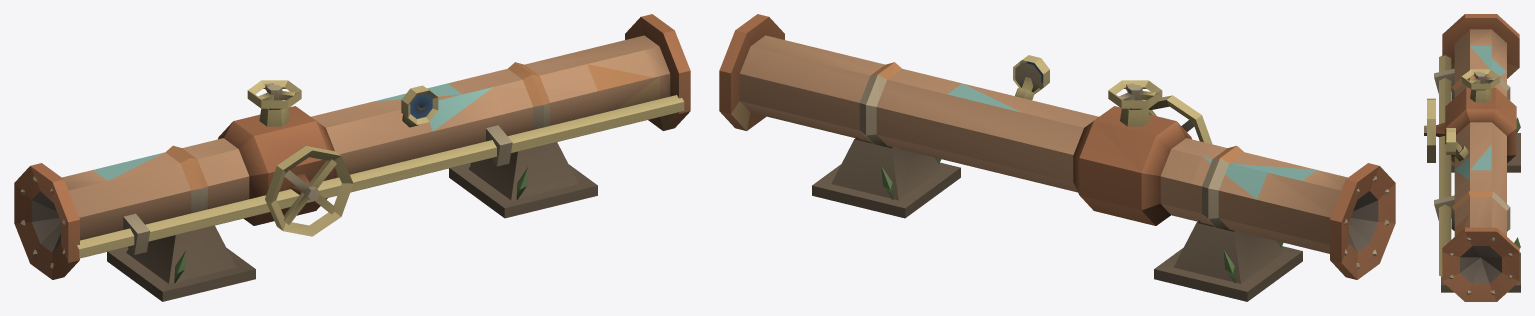
Rendered from pipe.glb.
3 views of the same model, side by side, from view 1: azimuth 30°, elevation 25°; view 2: azimuth 150°, elevation 25°; view 3: azimuth 270°, elevation 25° (orthographic). The views are drawn at different scales.
Parts seen in each view (by area): view 1: pipe; view 2: pipe; view 3: pipe.
Part boxes in pixels (x1=…): pipe: x1=14, y1=14, x2=690, y2=301; pipe: x1=719, y1=14, x2=1395, y2=301; pipe: x1=1424, y1=14, x2=1520, y2=301.
Bounding box in the file's own units: 4 × 0.9812 × 0.7512.
